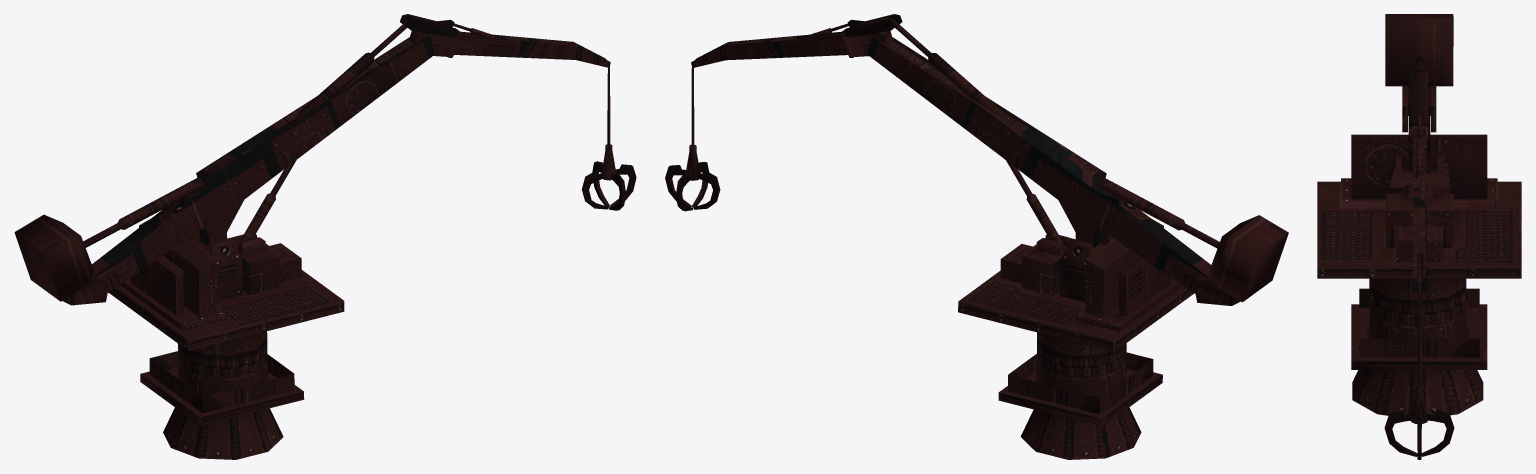
The model's file is hydrauliccrane.glb.
The picture shows the model from 3 angles, left to right: view 1: azimuth 30°, elevation 25°; view 2: azimuth 150°, elevation 25°; view 3: azimuth 270°, elevation 25°; orthographic projection. The views are drawn at different scales.
Parts seen in each view (by area): view 1: hauptarm, hcmetal, Regroup01; view 2: hauptarm, hcmetal, Regroup01; view 3: hcmetal, hauptarm, Regroup01.
Part boxes in pixels (x1,y1,x2,y2): hauptarm: [14, 14, 611, 413]; hcmetal: [108, 219, 344, 459]; Regroup01: [582, 66, 636, 210]; hauptarm: [690, 14, 1288, 414]; hcmetal: [958, 219, 1194, 459]; Regroup01: [665, 67, 720, 211]; hcmetal: [1317, 134, 1521, 415]; hauptarm: [1359, 14, 1479, 357]; Regroup01: [1384, 292, 1454, 459].
Size of the model in its own units: 58.29 by 34.12 by 15.
Materials: 1 (1 with a texture image).
